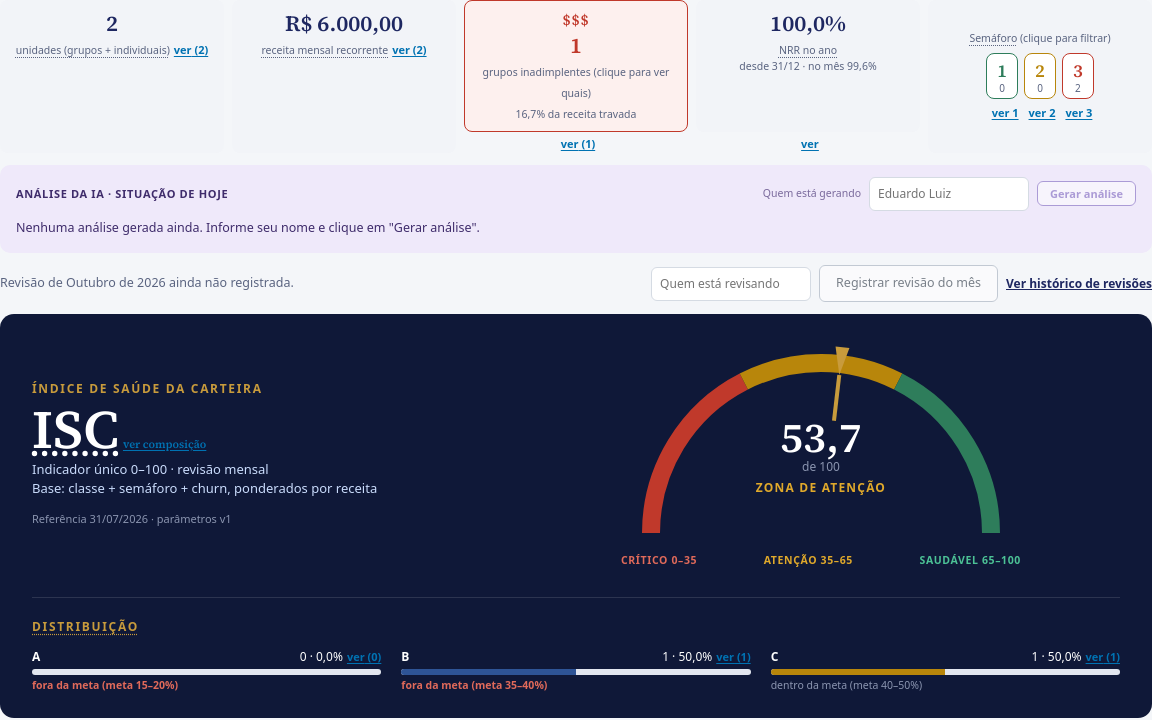
Saúde da carteira: $$$, composições e NRR no ano (18/10/2026) › a inadimplência tem o $$$ em vermelho e a composição com a nota e a % da receita
Expected: the text with class "retrato-cifrao" reads "$$$", [562,9,590,30]
Click the button with aria-label "Ver composição: $$$ Grupos inadimplentes" at (578, 144), box [561,136,595,152]
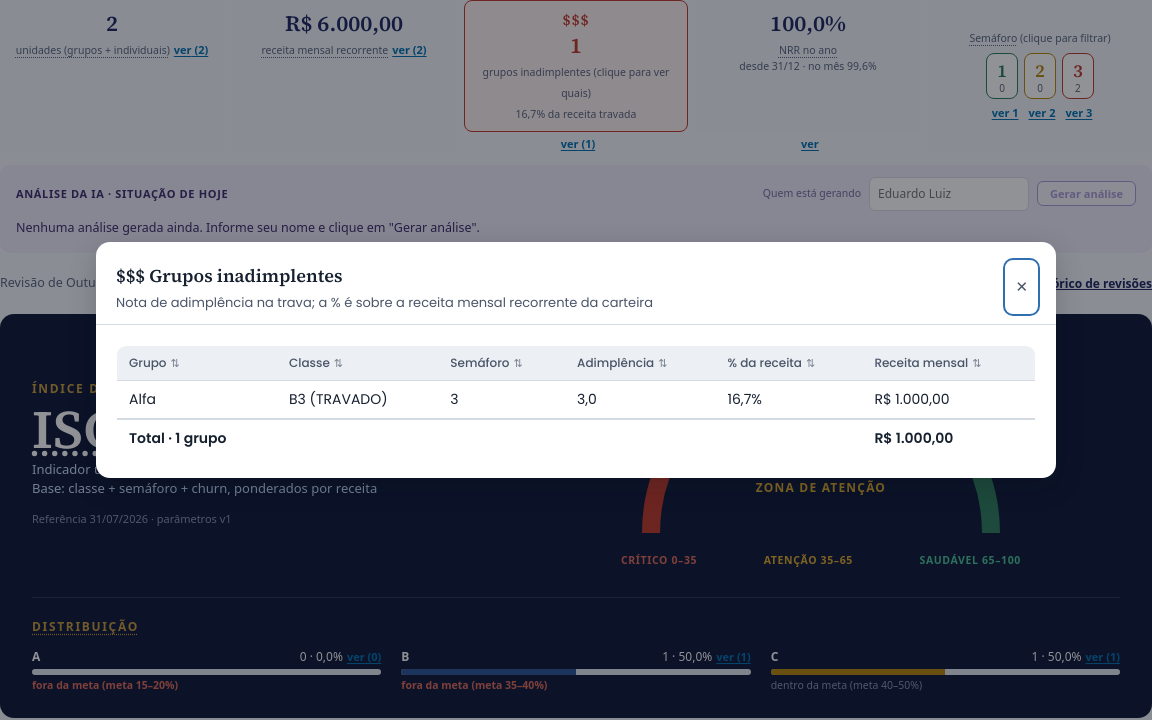
Result: the column heading "Adimplência ⇅" is shown at [565,346,716,381]
Result: the text "Alfa" is shown at [116,381,277,419]
Result: the text "16,7%" is shown at [716,381,862,419]
